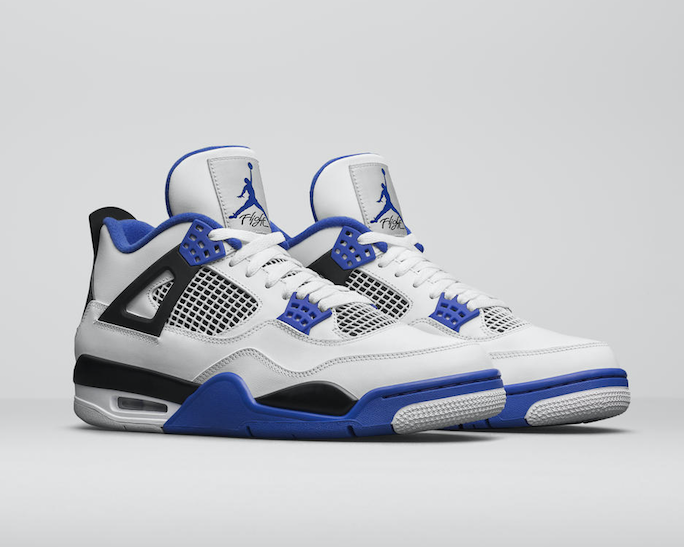Air Jordan 4 Motorsport: (24, 144, 510, 444), (254, 146, 637, 435)
